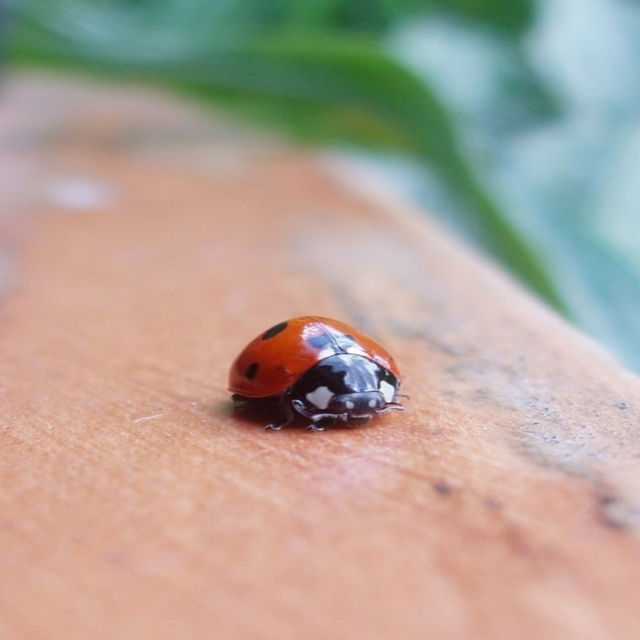Ladybug: (230, 318, 408, 429)
